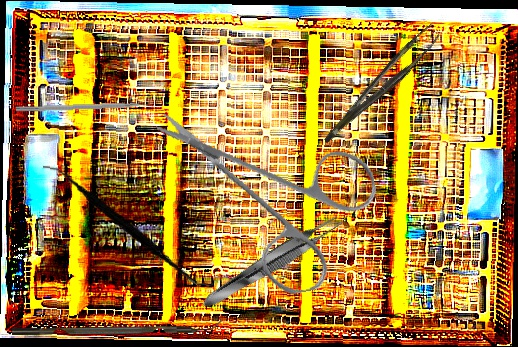Chopper: (12, 318, 222, 335), (15, 101, 160, 120)
Iris Scissors: (154, 74, 394, 315)
Spatula Surgical: (32, 164, 224, 287)
Tissue Forceps: (310, 22, 449, 144), (197, 210, 346, 314)
